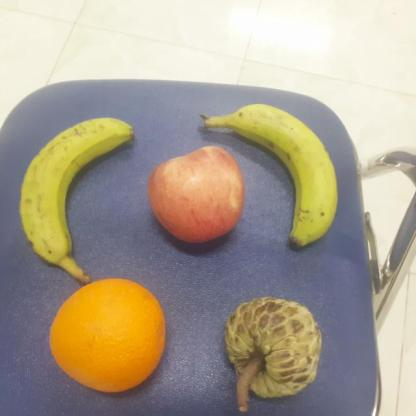annona: (224, 296, 320, 398)
apple: (147, 145, 244, 244)
banana: (198, 103, 338, 248), (18, 117, 135, 265)
orange: (49, 277, 167, 392)
